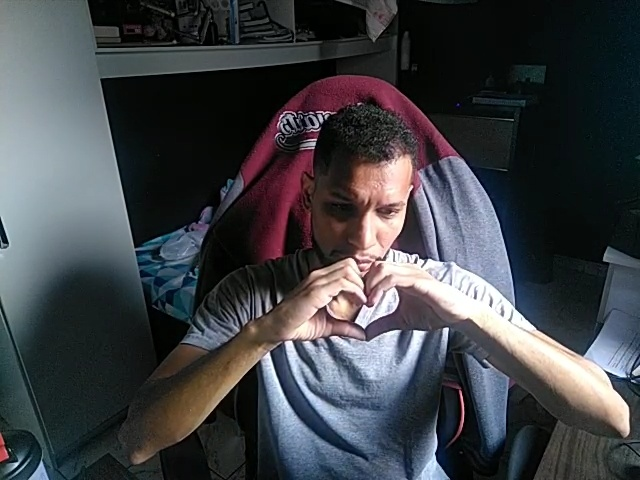eu_te_amo: (290, 254, 434, 353)
